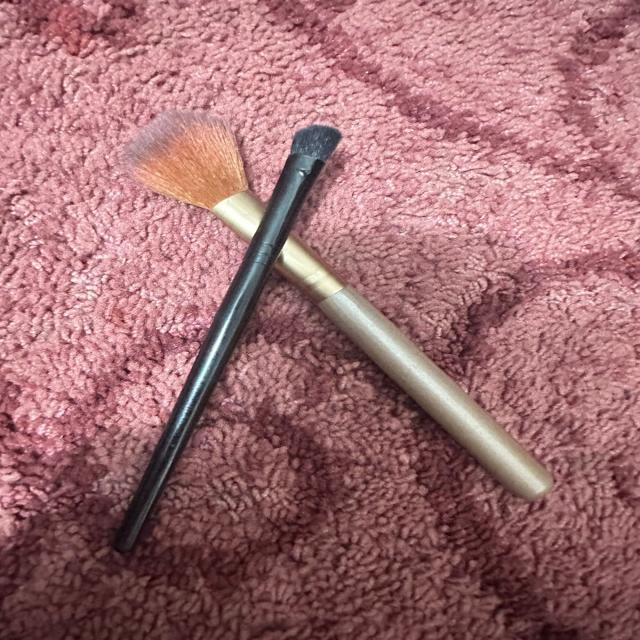brush: (93, 106, 554, 556)
